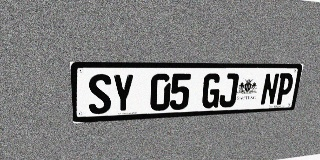0: (150, 74, 171, 111)
5: (170, 74, 191, 110)
G: (201, 73, 222, 109)
J: (218, 73, 239, 108)
N: (260, 73, 280, 106)
P: (275, 73, 295, 105)
S: (88, 74, 111, 114)
Y: (112, 74, 134, 113)
